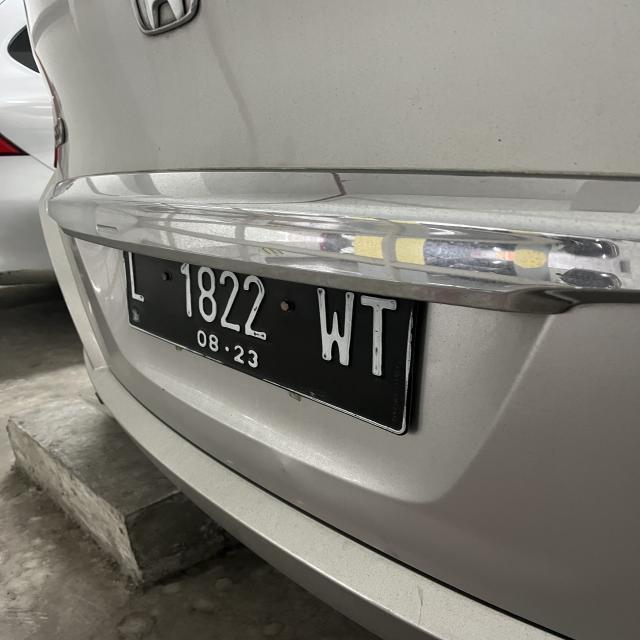1: (177, 263, 194, 322)
2: (242, 272, 268, 340), (220, 270, 239, 335)
8: (196, 266, 217, 324)
L: (124, 250, 145, 304)
T: (360, 295, 396, 379)
W: (313, 288, 355, 368)
